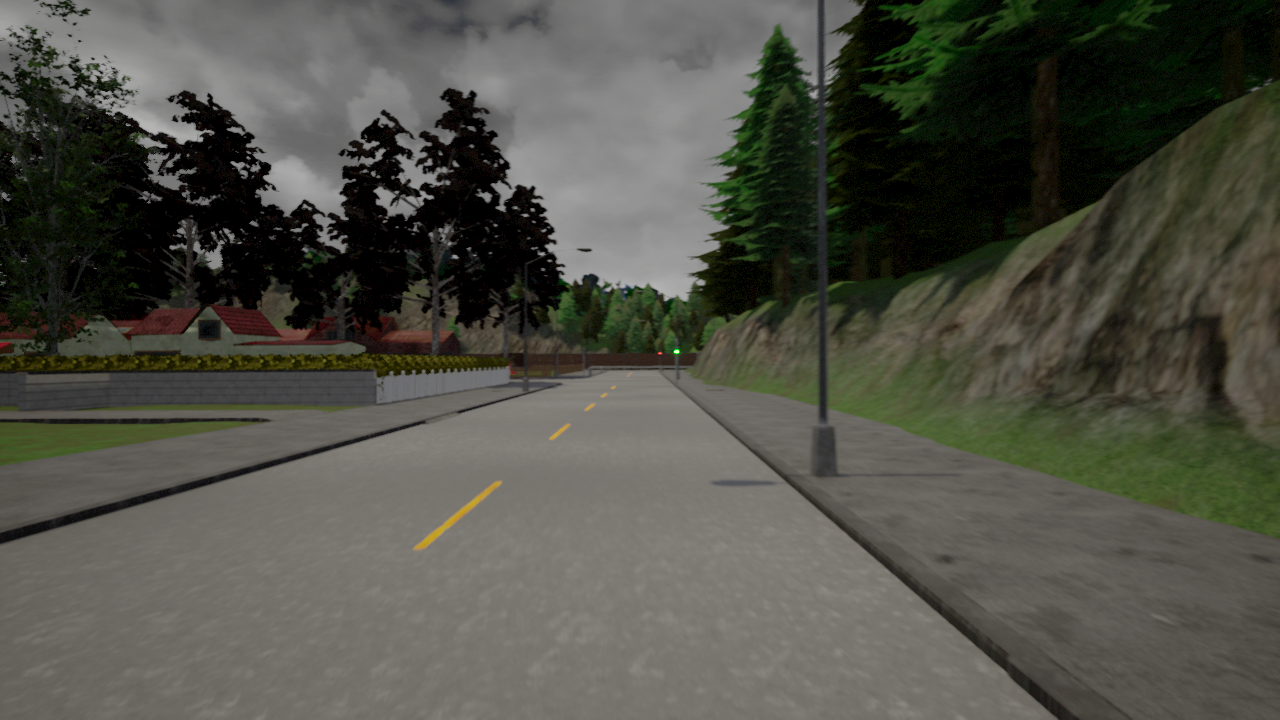green: (672, 342, 680, 356)
